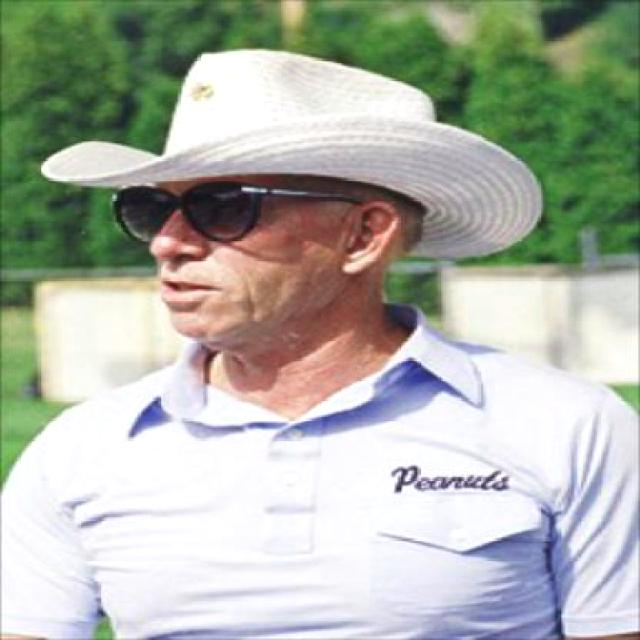face_nomask: (117, 176, 269, 324)
glasses: (100, 179, 380, 253)
head_nohelmet: (81, 45, 505, 220)
person: (0, 49, 535, 640)
